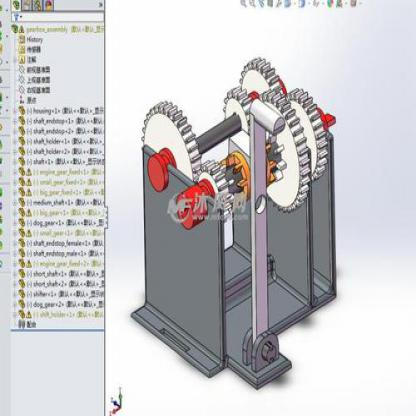FOD: (139, 102, 202, 187)
